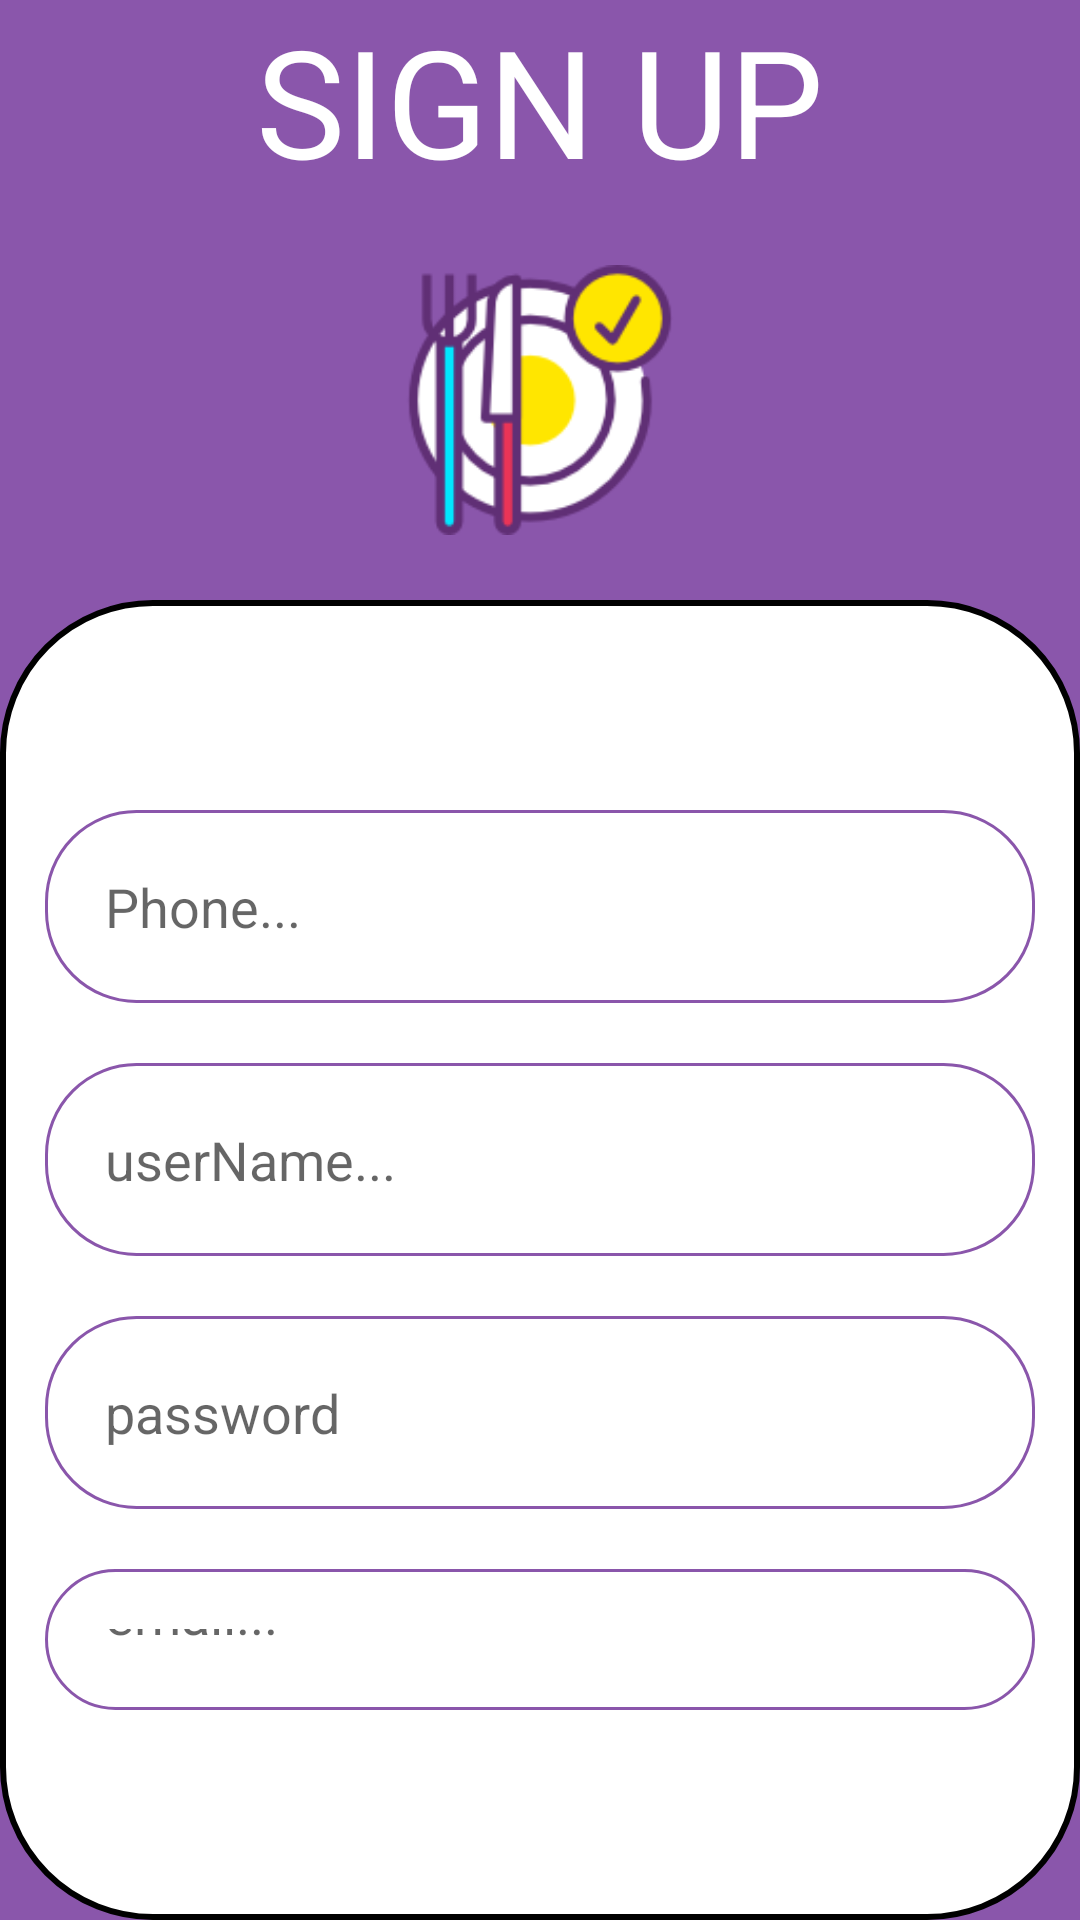

Where icons sit on this 1080×1920 app screen, as (x1, y1, x2, y2):
cutlery: (409, 265, 671, 535)
